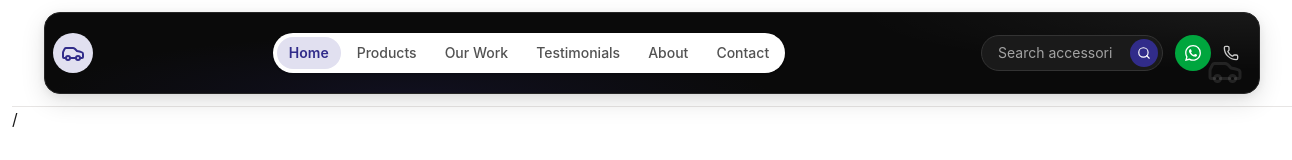
Scenario: Header › renders a working search control
This screenshot has width=1292, height=160.
Type "seat covers" into the search field labelled "Search accessories...".
click(1054, 53); type("seat covers")  # box [982,35,1126,71]
Then press Enter
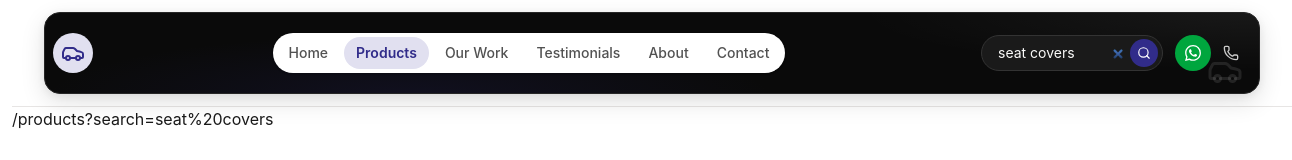
Expected: the text with test id "location" reads "/products?search=seat%20covers", [12,109,274,129]
